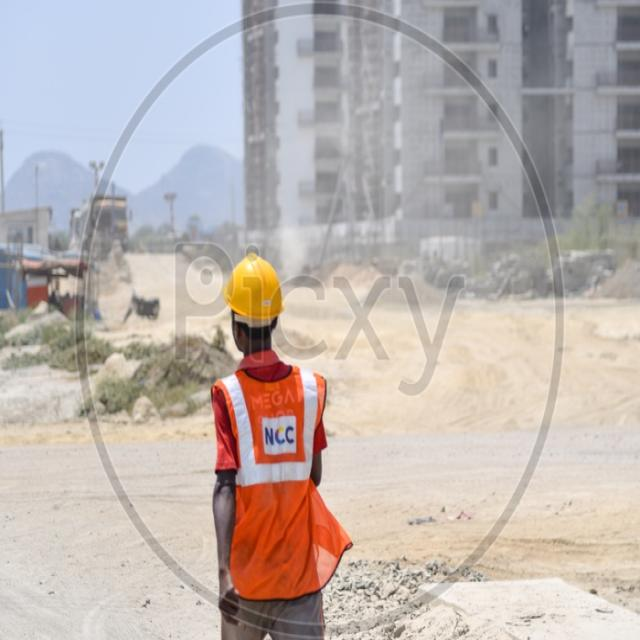helmet: (218, 249, 281, 320)
vest: (211, 353, 323, 594)
